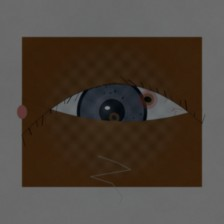foreign_body_visible: (100, 107, 128, 129)
